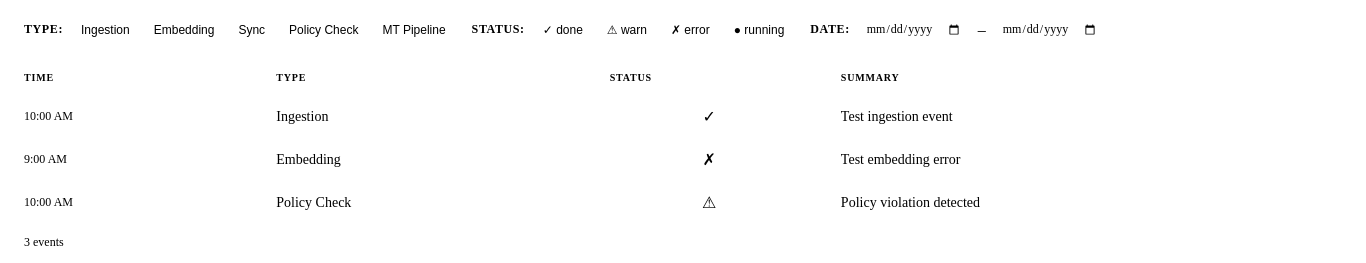
Test case: EventTable › shows empty state when no events match filters
// Click "running" filter (find by the button containing the running status)
Click the button "● running": (759, 30) [724,16,794,42]
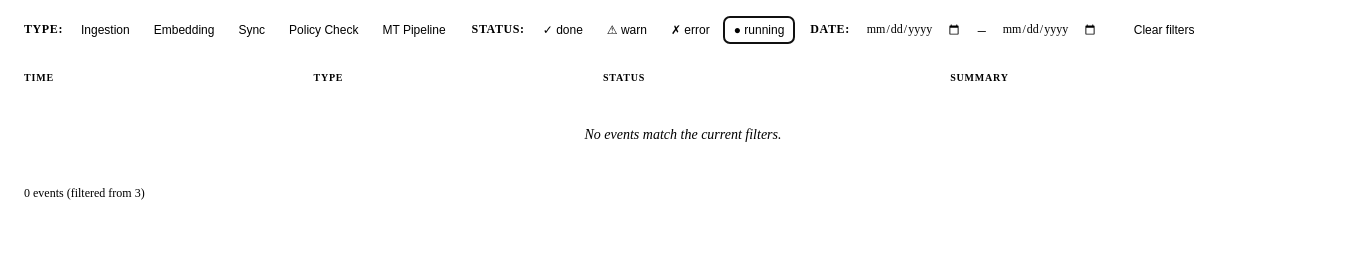
Now the text "No events match the current filters." is shown, box [8,95,1358,175]
